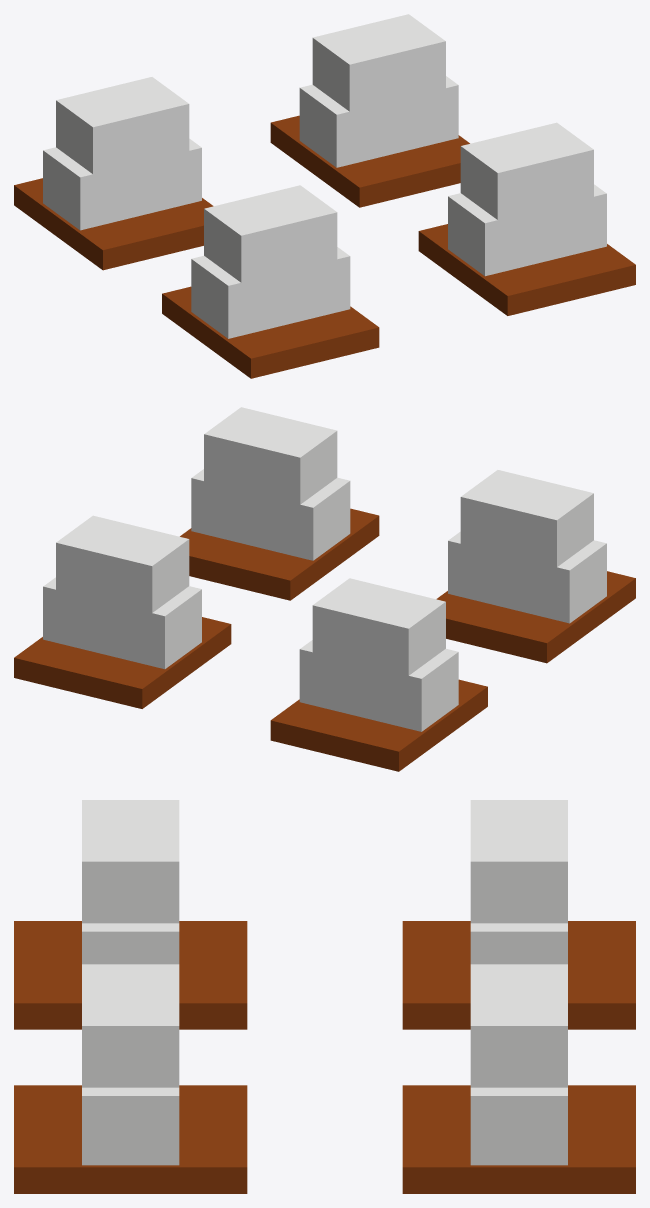
Rendered from pallet-staging-body-authored-atlas.glb.
The picture shows the model from 3 angles, top to bottom: view 1: azimuth 30°, elevation 25°; view 2: azimuth 150°, elevation 25°; view 3: azimuth 270°, elevation 25°; orthographic projection. The views are drawn at different scales.
Visible parts, largest first — view 1: Authored surface.167; view 2: Authored surface.167; view 3: Authored surface.167.
Boxes of the visible parts, x1,y1,x2,y2 form: Authored surface.167: [14, 14, 635, 378]; Authored surface.167: [14, 407, 635, 771]; Authored surface.167: [14, 800, 635, 1193].
Bounding box in the file's own units: 3 × 0.895 × 3.2.
Materials: 1 (1 with a texture image).
